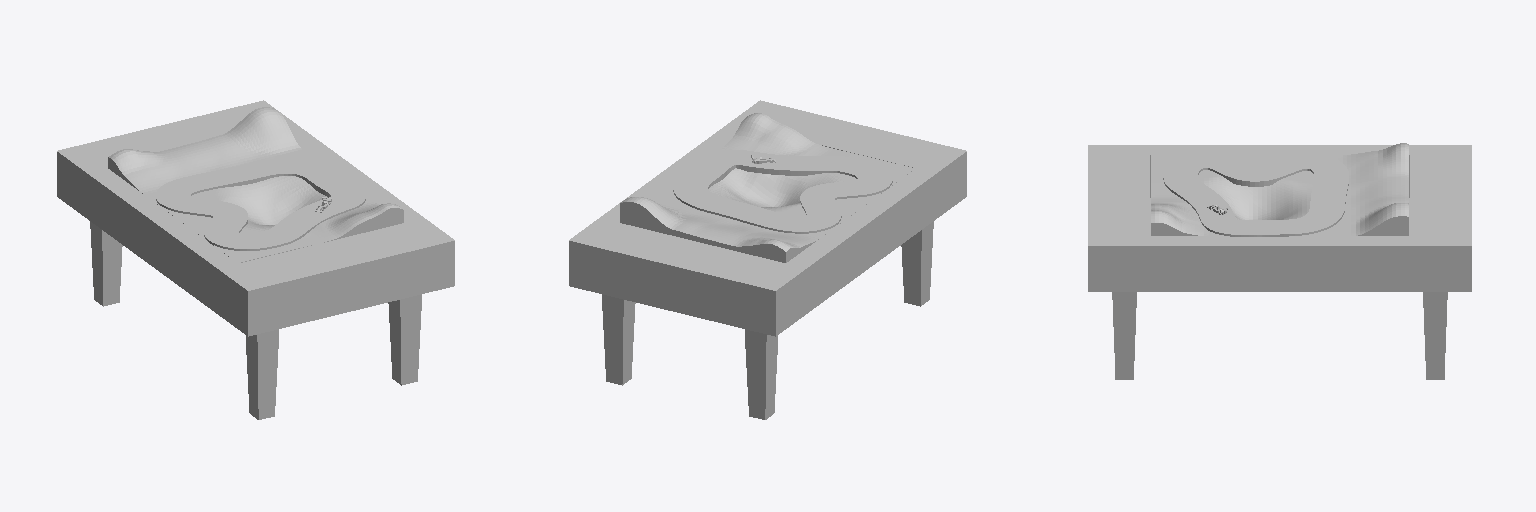
Rendered from NewestTisch38.obj.
3 renders of one model, left to right at view 1: azimuth 30°, elevation 25°; view 2: azimuth 150°, elevation 25°; view 3: azimuth 270°, elevation 25°, orthographic.
Visible parts, largest first — view 1: Tischplatte_wood_table_001, Landschaft_aerial_grass_rock, off, Bein1_wood_table_001, Bein4_wood_table_001.003, Bein3_wood_table_001.002; view 2: Tischplatte_wood_table_001, Landschaft_aerial_grass_rock, off, Bein2_wood_table_001.001, Bein3_wood_table_001.002, Bein4_wood_table_001.003; view 3: Tischplatte_wood_table_001, Landschaft_aerial_grass_rock, off, Bein1_wood_table_001, Bein2_wood_table_001.001.
Part boxes in pixels (left/top/right/bottom): Tischplatte_wood_table_001: left=57, top=100, right=454, bottom=336; Landschaft_aerial_grass_rock: left=108, top=107, right=403, bottom=262; off: left=156, top=159, right=365, bottom=250; Bein1_wood_table_001: left=388, top=294, right=421, bottom=385; Bein4_wood_table_001.003: left=246, top=329, right=278, bottom=419; Bein3_wood_table_001.002: left=90, top=221, right=122, bottom=306; Tischplatte_wood_table_001: left=569, top=100, right=966, bottom=336; Landschaft_aerial_grass_rock: left=620, top=113, right=915, bottom=262; off: left=673, top=150, right=892, bottom=233; Bein2_wood_table_001.001: left=602, top=294, right=635, bottom=385; Bein3_wood_table_001.002: left=745, top=329, right=777, bottom=419; Bein4_wood_table_001.003: left=901, top=221, right=933, bottom=306; Tischplatte_wood_table_001: left=1088, top=145, right=1471, bottom=291; Landschaft_aerial_grass_rock: left=1151, top=143, right=1408, bottom=235; off: left=1163, top=153, right=1348, bottom=236; Bein1_wood_table_001: left=1112, top=292, right=1136, bottom=379; Bein2_wood_table_001.001: left=1423, top=292, right=1447, bottom=379.
Bounding box in the file's own units: 5 × 3.91 × 8.